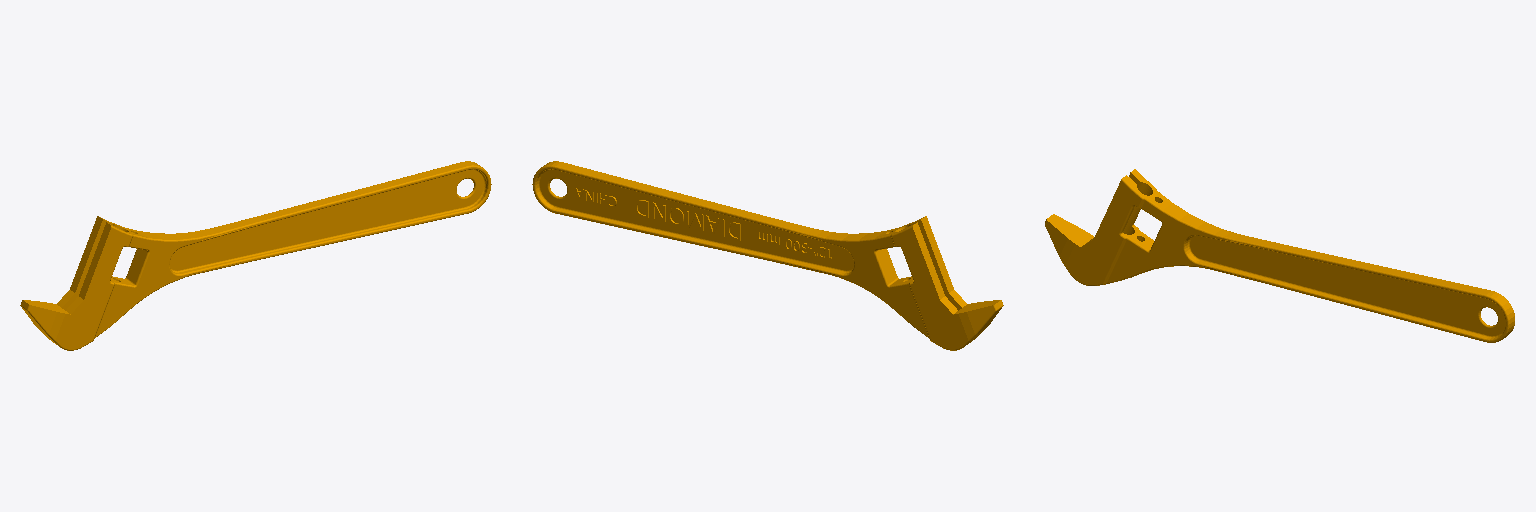
robot.urdf — wrench_3_L0.59_T0.58:
<?xml version="1.0" encoding="utf-8"?>
<robot name="wrench_3_L0.59_T0.58">
  <link name="wrench_3_L0.59_T0.58Link">
    <contact>
      <lateral_friction value="1"/>
    </contact>
    <inertial>
      <origin rpy="0 0 0" xyz="0 0 0"/>
      <mass value="0.0"/>
      <inertia ixx="0" ixy="0" ixz="0" iyy="0" iyz="0" izz="0"/>
    </inertial>
    <visual>
      <origin rpy="0 0 0" xyz="0 0 0"/>
      <geometry>
        <mesh filename="generated_stl/wrench/wrench_3/wrench_3_L0.59_T0.58/wrench_3_L0.59_T0.58.stl" scale="0.01 0.01 0.01"/>
      </geometry>
    </visual>
    <collision>
      <origin rpy="0 0 0" xyz="0 0 0"/>
      <geometry>
        <mesh filename="generated_stl/wrench/wrench_3/wrench_3_L0.59_T0.58/wrench_3_L0.59_T0.58.stl" scale="0.01 0.01 0.01"/>
      </geometry>
    </collision>
  </link>
</robot>

--- What the picture shows (computed from the rendered views, not written in the file) ---
The picture shows the robot from 3 angles, left to right: view 1: azimuth 30°, elevation 25°; view 2: azimuth 150°, elevation 25°; view 3: azimuth 330°, elevation 25°; orthographic projection.
Model wrench_3_L0.59_T0.58 with 1 links and 0 joints (none), rooted at wrench_3_L0.59_T0.58Link, posed every joint at zero.
Visible links, largest first — view 1: wrench_3_L0.59_T0.58Link; view 2: wrench_3_L0.59_T0.58Link; view 3: wrench_3_L0.59_T0.58Link.
Boxes of the visible links, left/top/right/bottom form: wrench_3_L0.59_T0.58Link: left=20, top=161, right=491, bottom=350; wrench_3_L0.59_T0.58Link: left=532, top=161, right=1003, bottom=350; wrench_3_L0.59_T0.58Link: left=1045, top=169, right=1514, bottom=342.
Bounding box of the posed robot: 0.0476 × 0.0025 × 0.0113 m (x, y, z).
1 mesh visuals loaded from 1 distinct referenced files (1 binary STL).